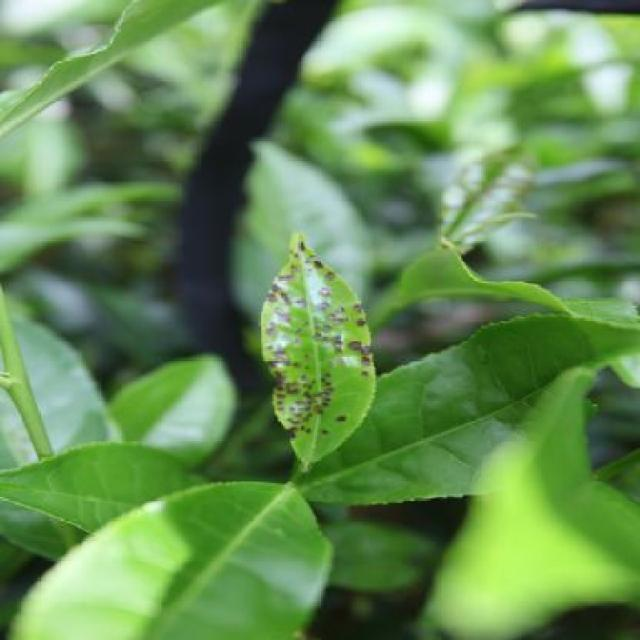Tea Mosquito bug infested leaf: (257, 229, 375, 466)
